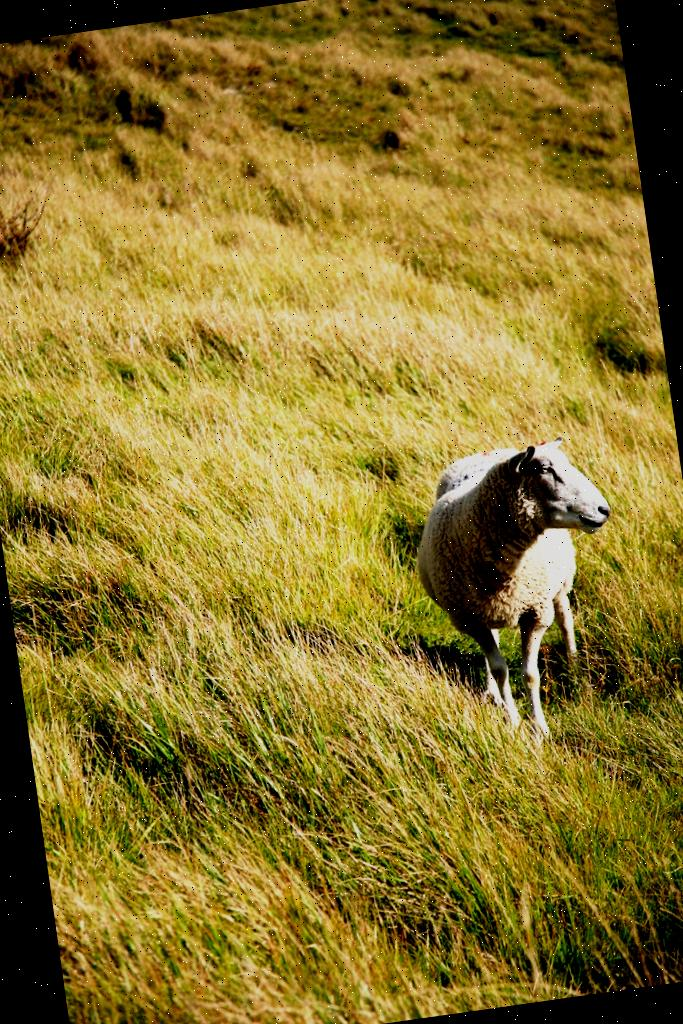Sheep: (404, 434, 644, 750)
